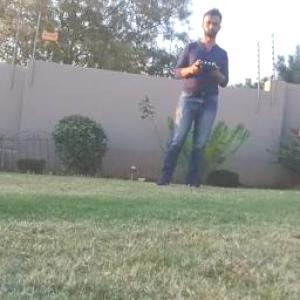follow: (148, 0, 231, 192)
